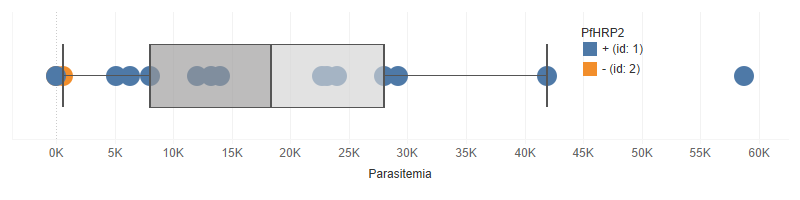

The dashboard page shown, as its layout file describes it:
{"tool":"tableau","page":{"name":"Parasitemia Boxplot Dashboard","canvas":[800,200],"ordinal":0},"visuals":[{"type":"worksheet","title":"Parasitemia Boxplot","mark":"Circle","cols":["Parasitemia"],"box":[8,8,784,184]},{"type":"legend","title":"Parasitemia Boxplot","param":"[federated.0e6ofi3114s68f18ojkgn15q1dwh].[none:PfHRP2:ok]","box":[580,24,140,58]}]}

Visuals, with their boxes in screenshot pixels (x1, y1, x2, y2), scaled from the page's 800x200 canvas onto the 800x200 screenshot:
"Parasitemia Boxplot" worksheet (Circle marks): 8:8:792:192
"Parasitemia Boxplot" legend: 580:24:720:82
